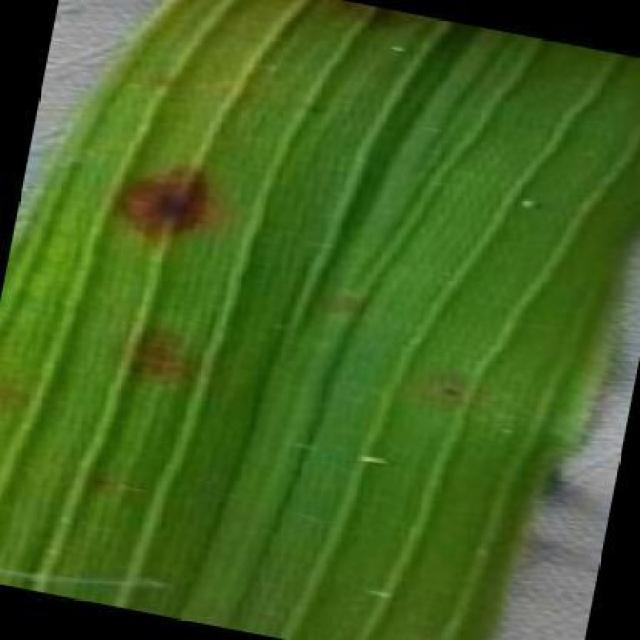Leaf_Blast: (95, 136, 251, 264), (108, 306, 218, 406), (293, 273, 389, 336), (296, 0, 435, 37), (0, 360, 54, 440), (352, 2, 446, 47), (423, 368, 482, 414), (142, 60, 188, 111), (76, 459, 124, 504)
